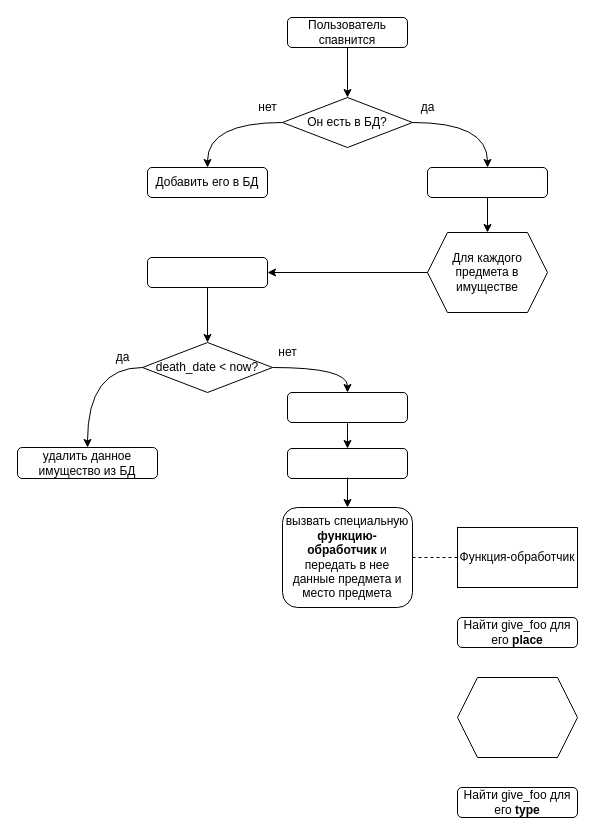
Image size: 595x835. Some labels were removed from this diagram. Each missing label, with the box of its shape:
выгрузить его имущество из БД: (426, 166, 548, 198)
Для каждого значения в таблице item_data: (456, 676, 578, 758)
определить его death_date: (146, 256, 268, 288)
определить его place: (286, 448, 408, 478)
определить его type: (286, 392, 408, 422)
